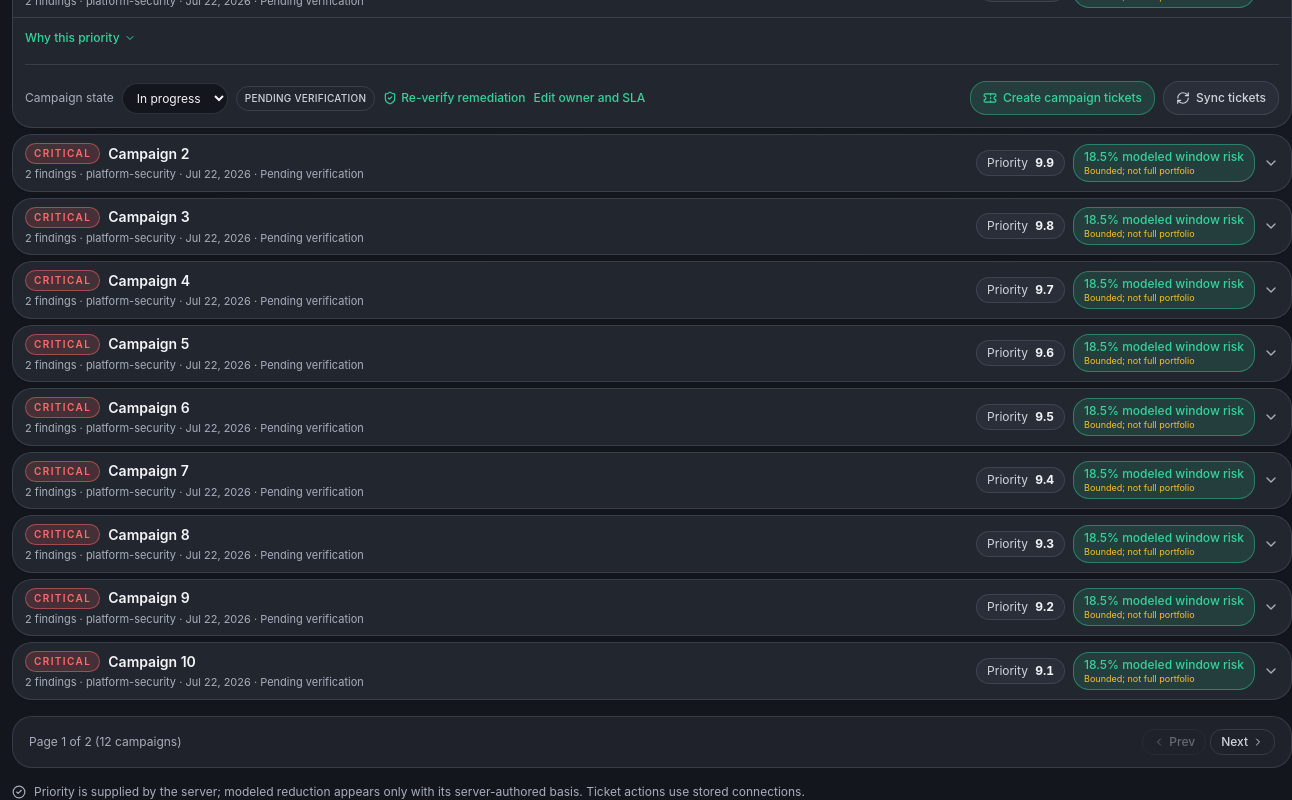
Test: RiskCampaignCommandCenter › paginates large campaign queues without growing the page
(page scrolled)
Expected: the text "Page 1 of 2 (12 campaigns)" is shown, top-left (29, 734), bottom-right (182, 750)
Expected: the text "Campaign 11" is not shown
Click the button "Next" at (1243, 742), box top-left (1210, 728), bottom-right (1275, 754)
(page scrolled)
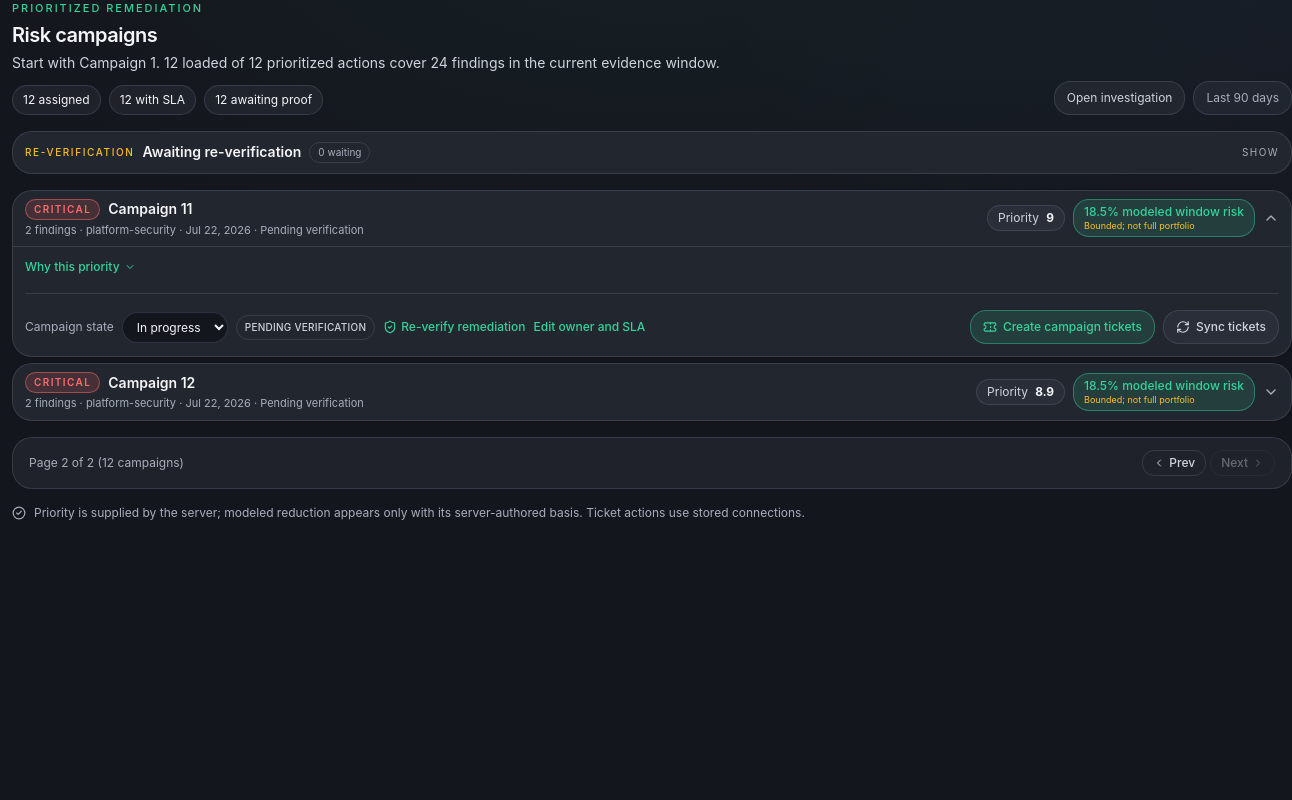
Expected: the number of elements with class "risk-campaign-card" is 2, top-left (12, 190), bottom-right (1291, 357); top-left (12, 363), bottom-right (1291, 420)
Expected: the text "Page 2 of 2 (12 campaigns)" is shown, top-left (29, 454), bottom-right (184, 470)
Expected: the heading "Campaign 11" is shown, top-left (108, 199), bottom-right (192, 219)
